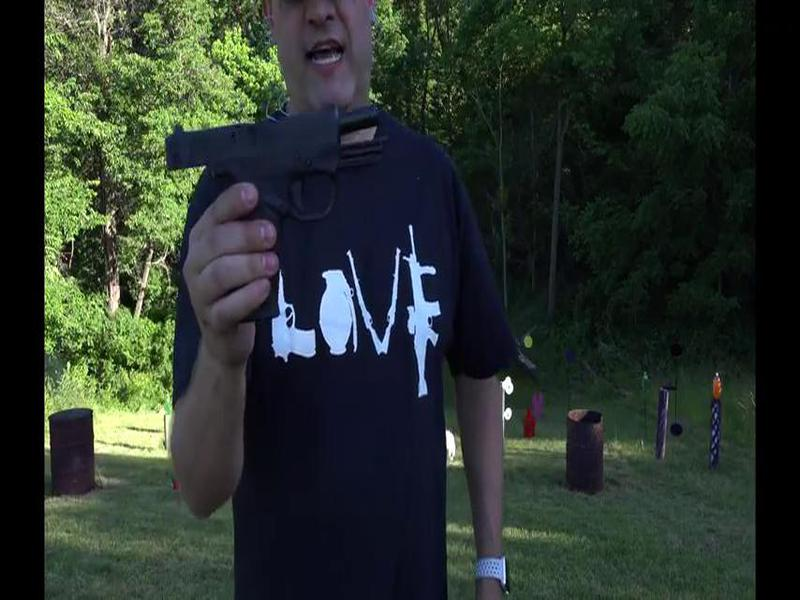Pistola: (144, 101, 417, 314)
